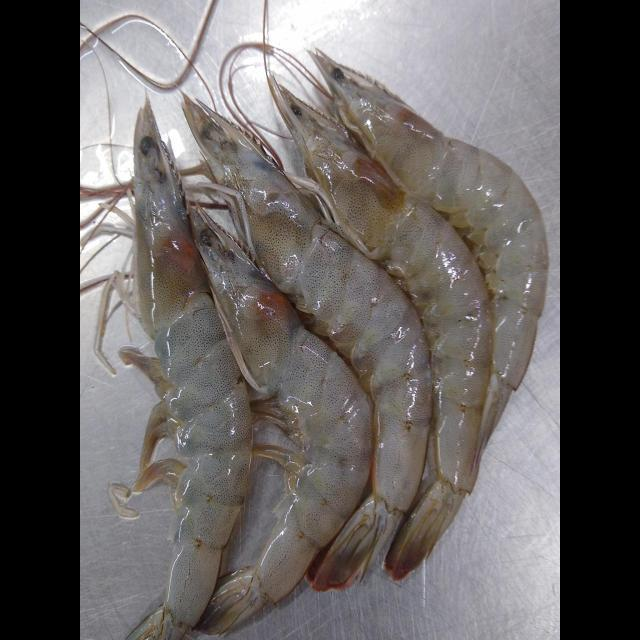shrimp: (185, 100, 432, 572), (311, 48, 549, 440), (270, 78, 492, 495), (190, 208, 372, 633), (110, 103, 251, 640)
